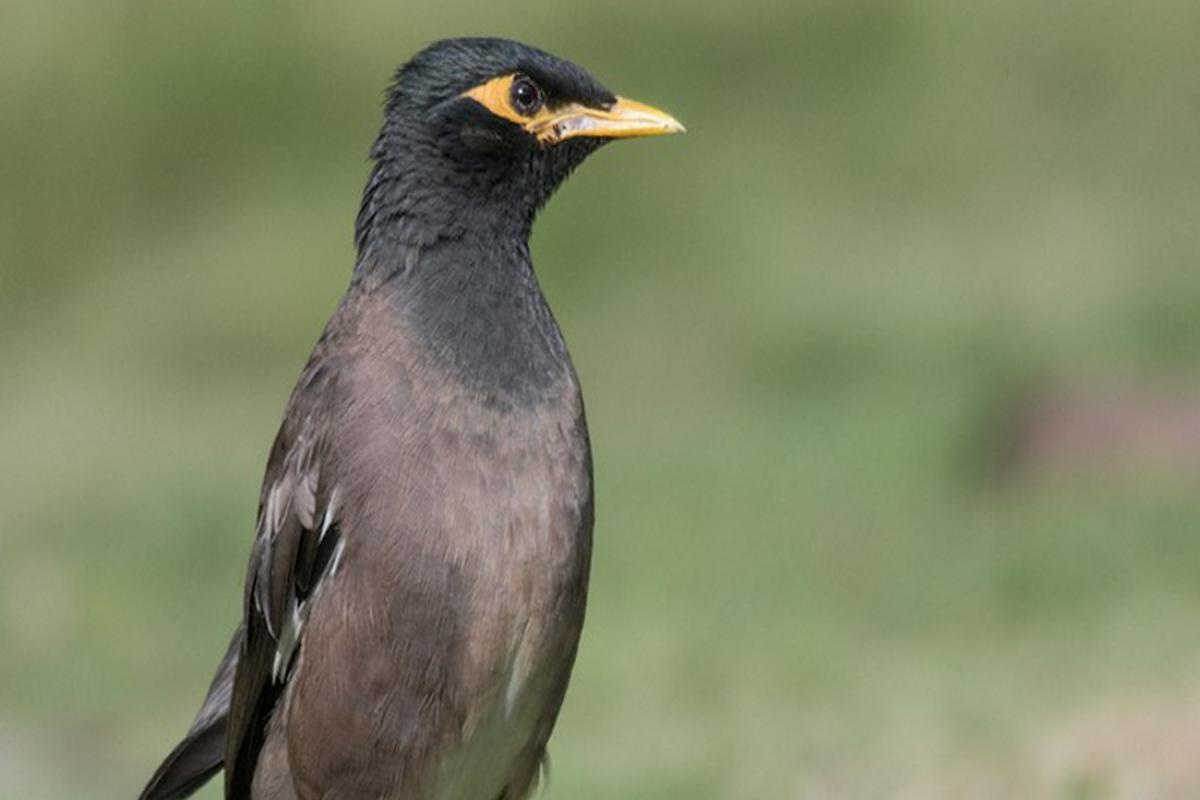myna: (208, 36, 703, 800)
